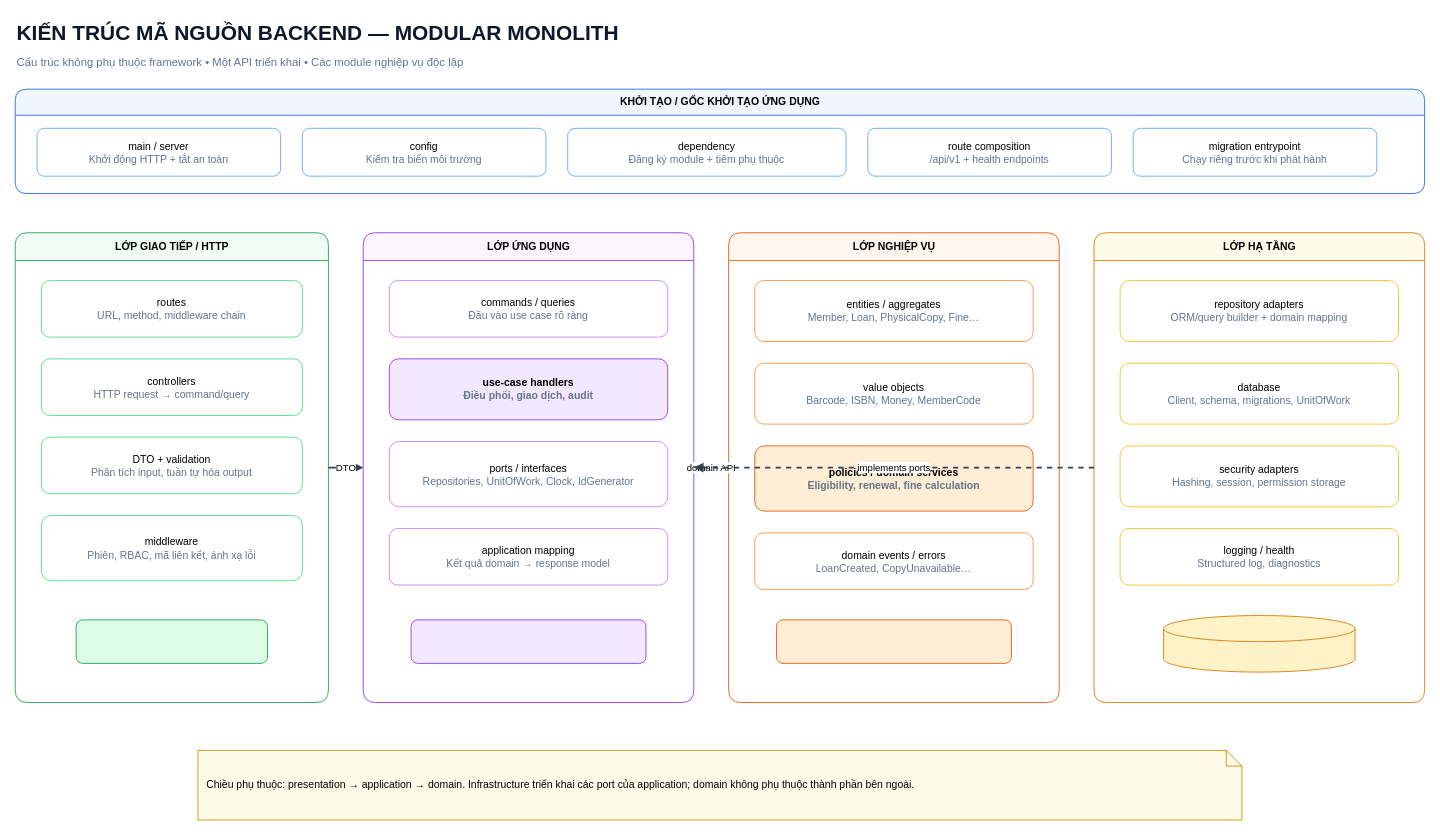
Some shapes in this 1440 by 835 pixel diagram are drawn without their labels. The shapes that lost their labels are listed below. From the top down, each one's centre as x and y in pixels, then its label:
(x=171, y=641): Không chứa logic nghiệp vụ
(x=528, y=641): Mỗi use case là một ranh giới giao dịch
(x=893, y=641): Không phụ thuộc framework, HTTP hoặc ORM
(x=1259, y=643): PostgreSQL
